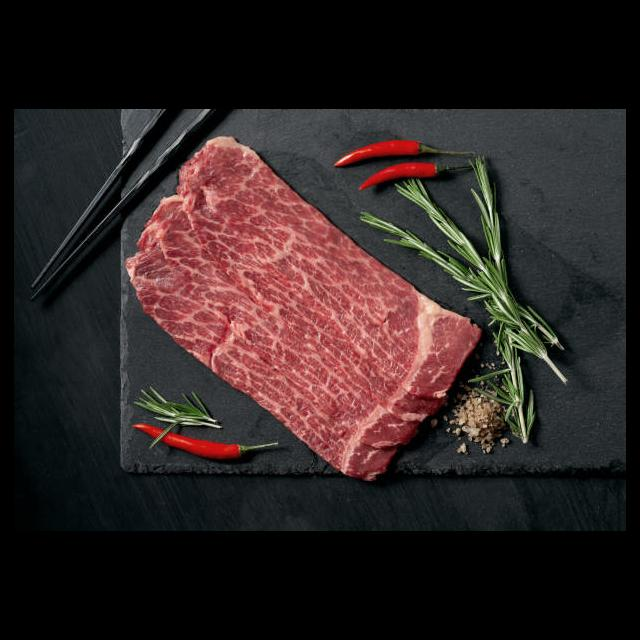beef: (126, 135, 480, 485)
